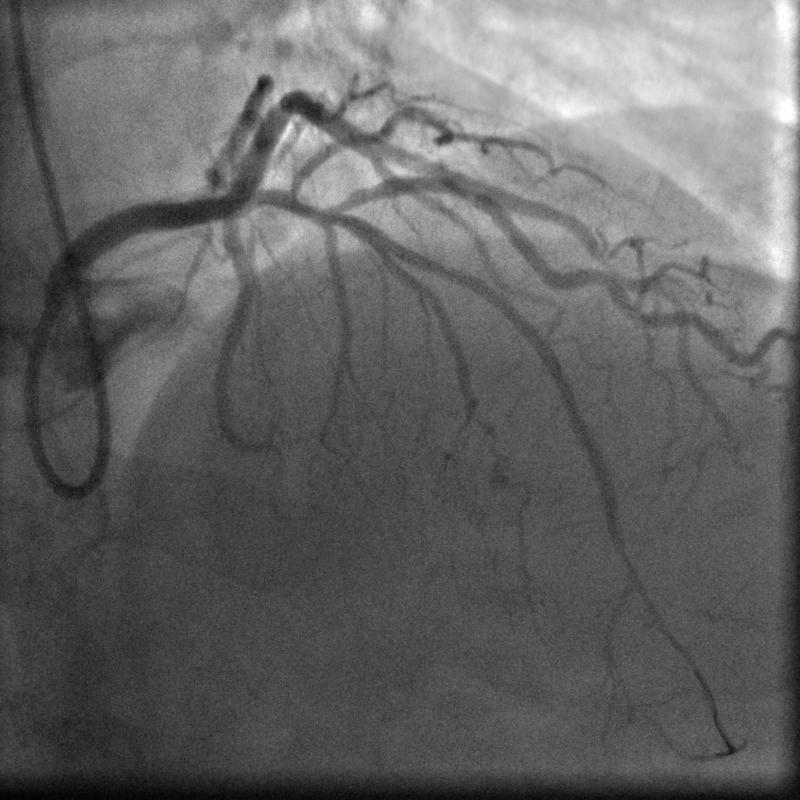Stenosis: (441, 169, 490, 206)
